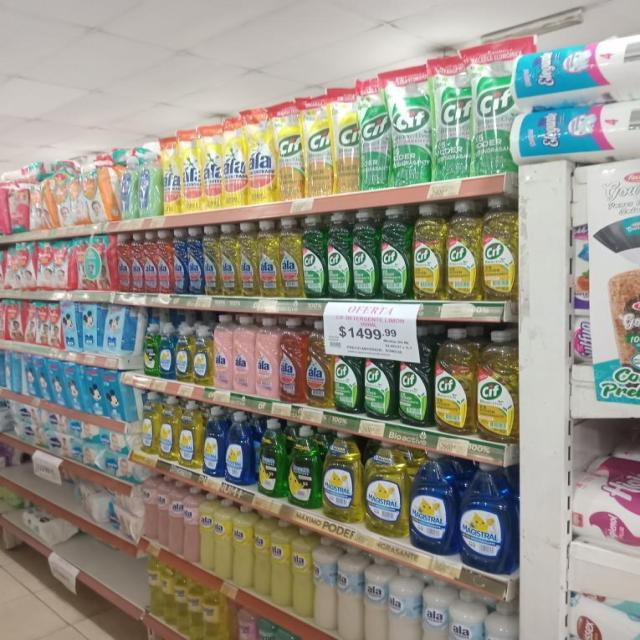ala_conc_amarillo: (306, 318, 332, 409), (280, 218, 302, 298), (258, 219, 280, 298), (239, 221, 258, 297), (220, 223, 238, 297), (203, 224, 220, 296)
ala_conc_azul: (187, 226, 203, 295), (174, 228, 187, 295)
ala_conc_rojo: (280, 317, 305, 405), (158, 229, 172, 294), (116, 233, 130, 292), (144, 232, 157, 294), (131, 232, 143, 292)
ala_crem_amarillo: (270, 519, 292, 610), (292, 527, 313, 619), (233, 504, 253, 590), (254, 510, 271, 598), (215, 496, 232, 580), (200, 492, 214, 573)
ala_crem_blanco: (388, 565, 421, 640), (337, 545, 363, 640), (314, 535, 336, 634), (364, 555, 388, 640), (449, 590, 484, 640), (422, 577, 448, 640), (484, 602, 518, 640)
ala_crem_rosado: (183, 486, 200, 564), (168, 480, 183, 558)
ala_sachet_amarillo: (248, 107, 276, 204), (224, 115, 247, 208), (202, 123, 222, 211), (182, 128, 201, 213), (162, 133, 181, 215)
ala_ultra_rosa: (256, 316, 279, 400), (233, 315, 256, 396), (214, 314, 232, 391)
cif_conc_bot_amarilla: (477, 329, 517, 442), (434, 326, 475, 434), (482, 196, 517, 302), (446, 199, 480, 302), (412, 203, 444, 301)
cif_conc_botella_verde: (398, 327, 433, 428), (380, 206, 410, 300), (364, 335, 396, 421), (352, 209, 378, 300), (334, 335, 362, 414), (327, 212, 351, 299), (303, 214, 325, 299)
cif_conc_sachet_amarillo: (304, 90, 333, 197), (276, 99, 304, 201), (334, 83, 359, 194)
cif_conc_sachet_verde: (472, 40, 514, 176), (391, 63, 432, 185), (433, 56, 472, 180), (360, 73, 390, 190)
magistral_con_amarillo: (364, 440, 407, 538), (322, 431, 362, 524), (179, 400, 202, 470), (160, 395, 179, 461), (141, 391, 159, 455), (194, 324, 212, 386), (176, 324, 192, 383)
magistral_con_azul: (458, 460, 512, 573), (410, 451, 456, 555), (226, 411, 254, 486), (203, 406, 225, 480), (159, 324, 175, 379), (143, 323, 158, 377)
